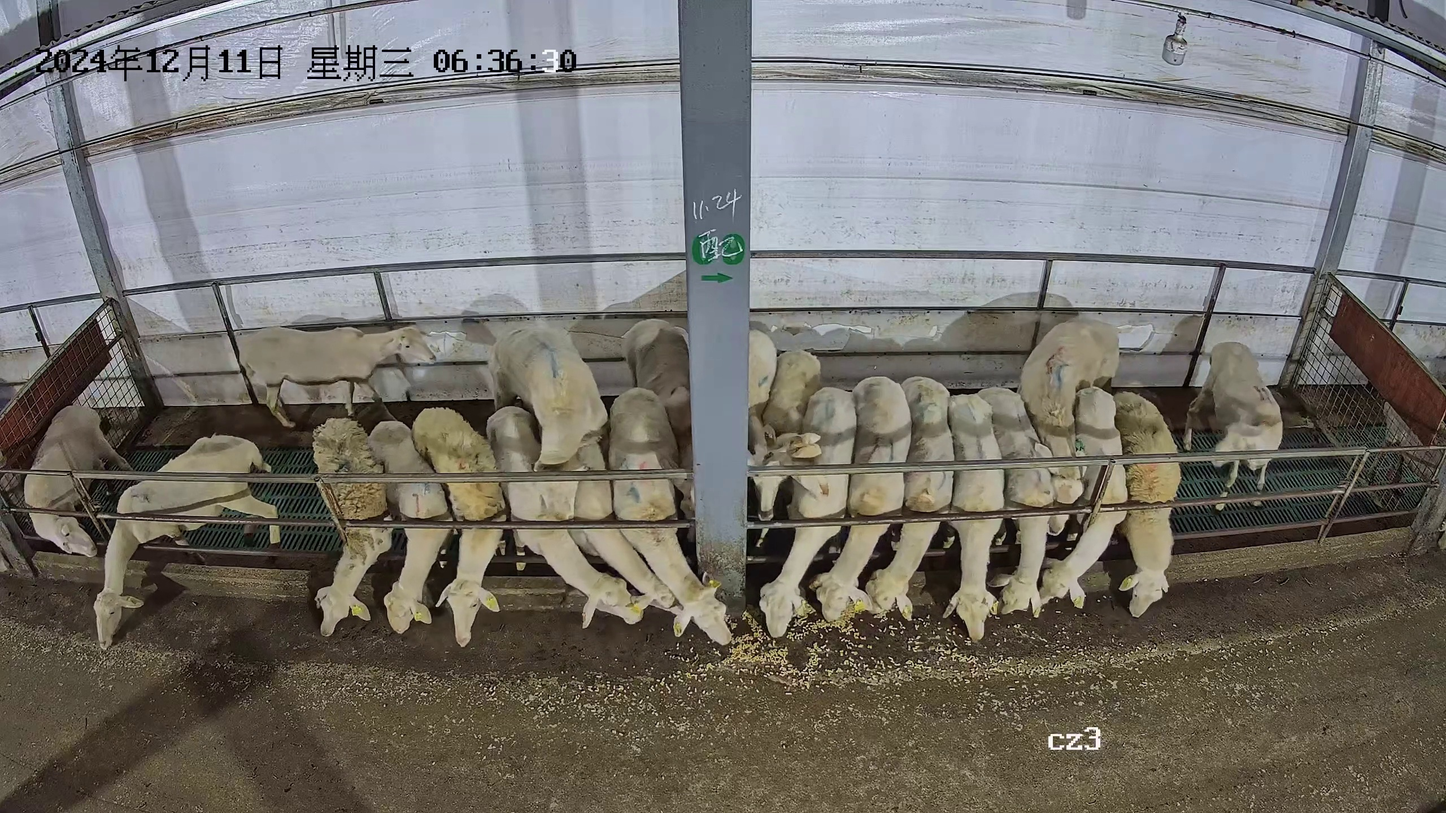Nmounting: (487, 321, 612, 617)
